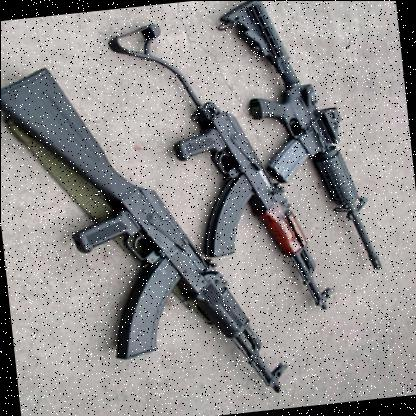rifle: (0, 41, 290, 416), (209, 0, 406, 285), (151, 88, 340, 318)
